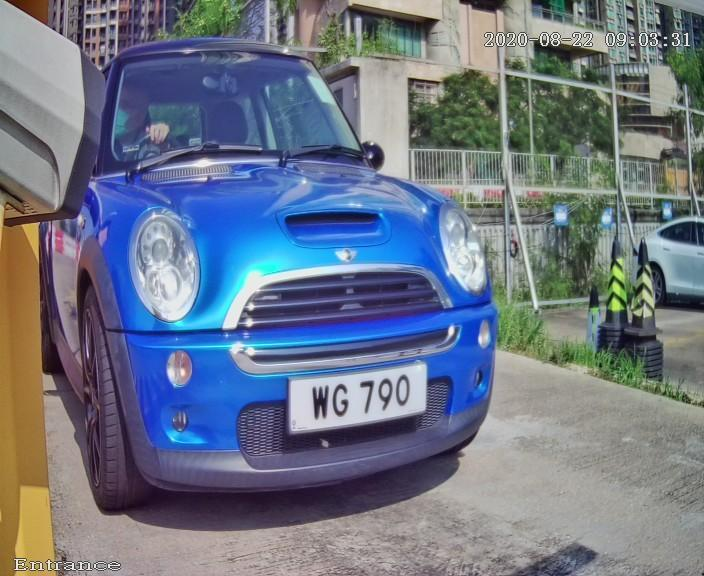Car: (10, 1, 547, 556)
License Plate: (255, 333, 464, 448)
